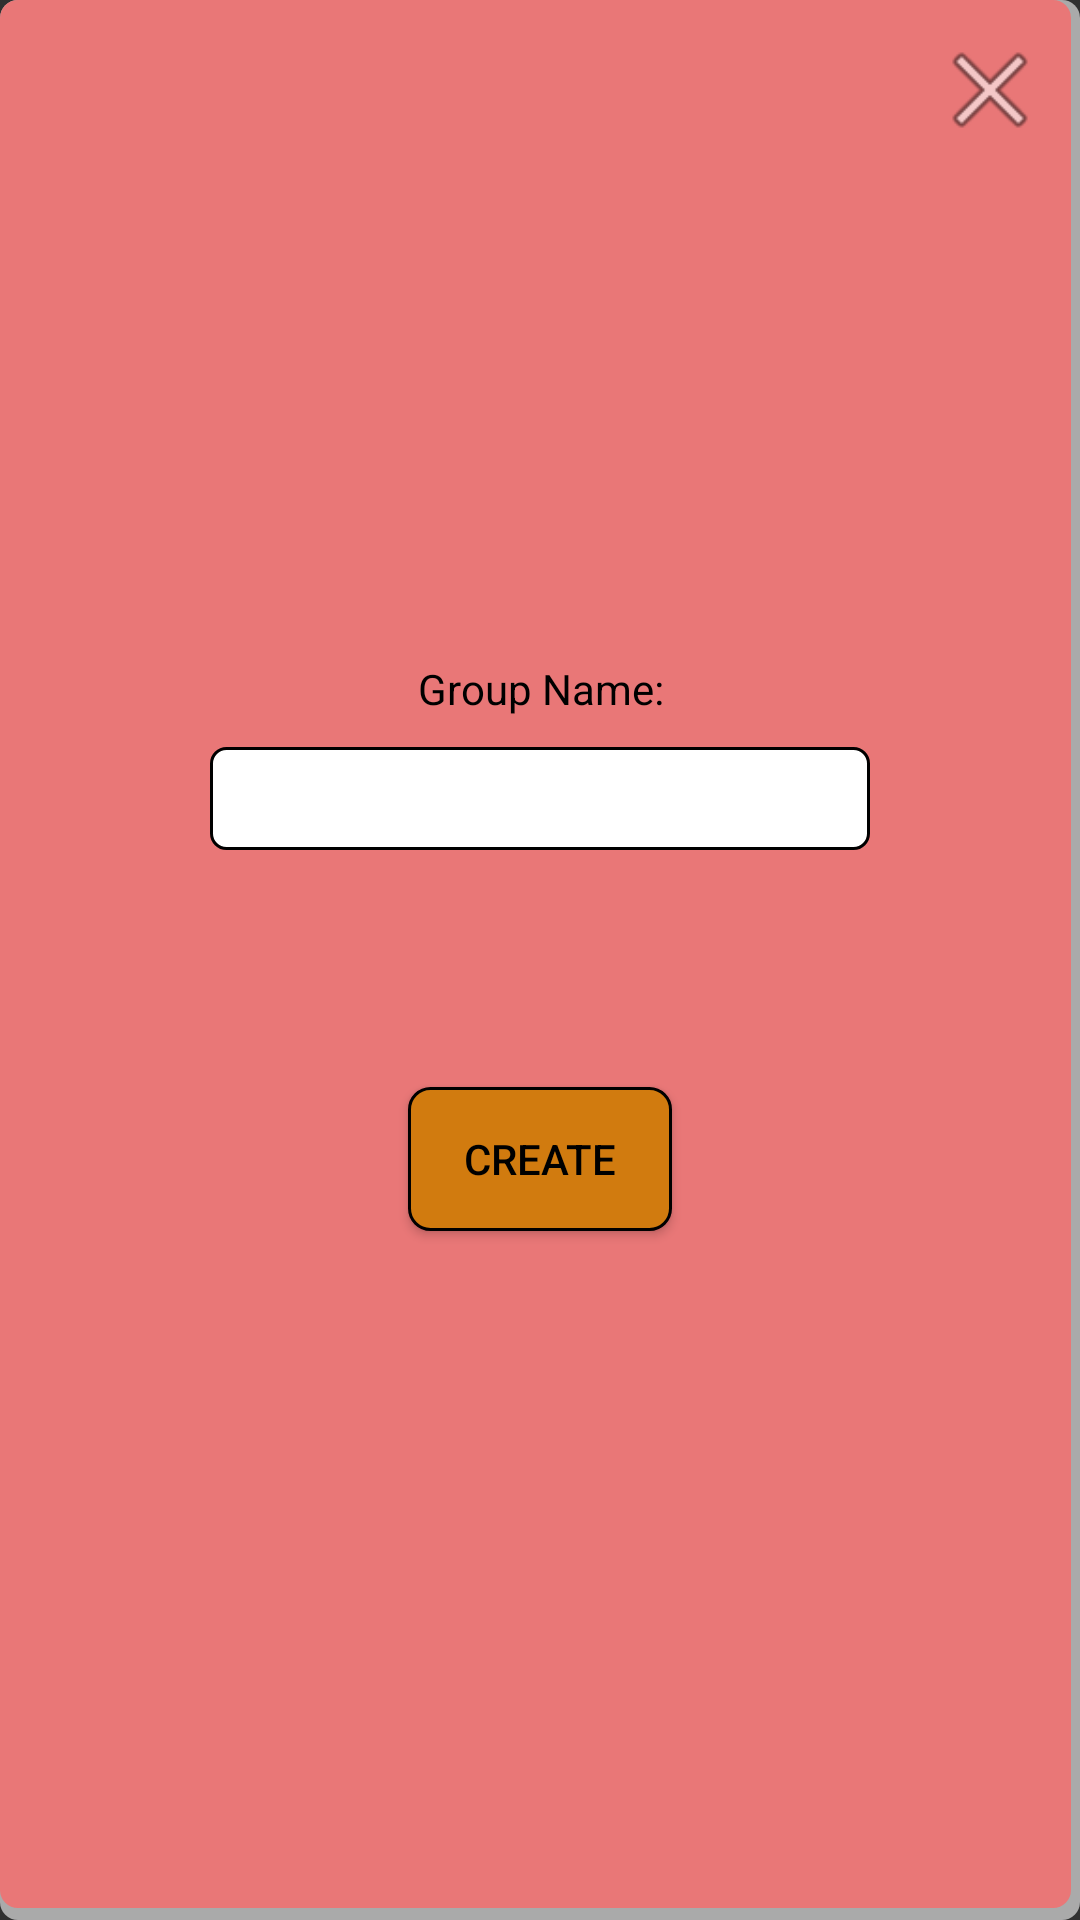

Where icons sit on this 1080x1920 app screen, as [x1, y1, x2, y2]:
close clear cancel: [952, 52, 1028, 128]
